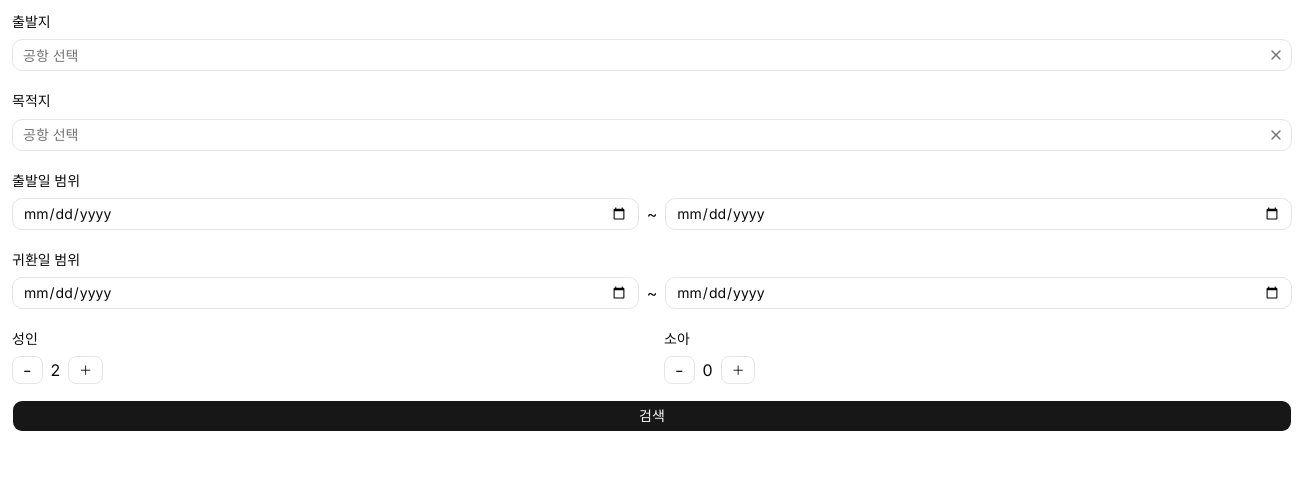
SearchForm — validation › shows date order error and disables submit when returnTo < departFrom
The width and height of the screenshot is (1304, 477).
Type "2026-06-20" into the date field named "출발일 시작".
click(325, 214); type("2026-06-20")  # box top-left (12, 198), bottom-right (639, 230)
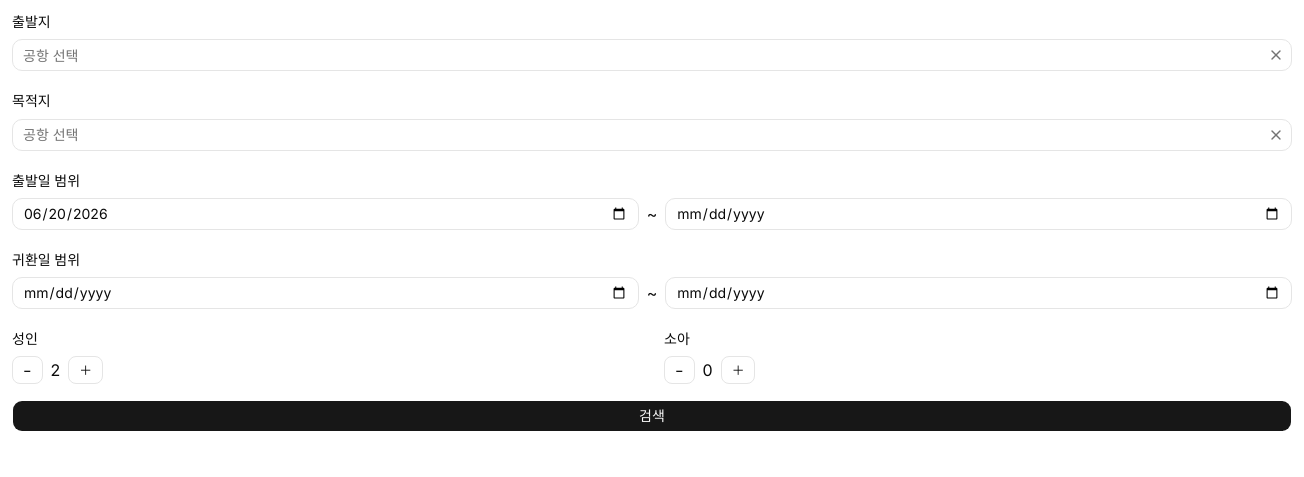
Type "2026-06-15" into the date field named "귀환일 종료".
click(979, 293); type("2026-06-15")  # box top-left (665, 277), bottom-right (1292, 309)
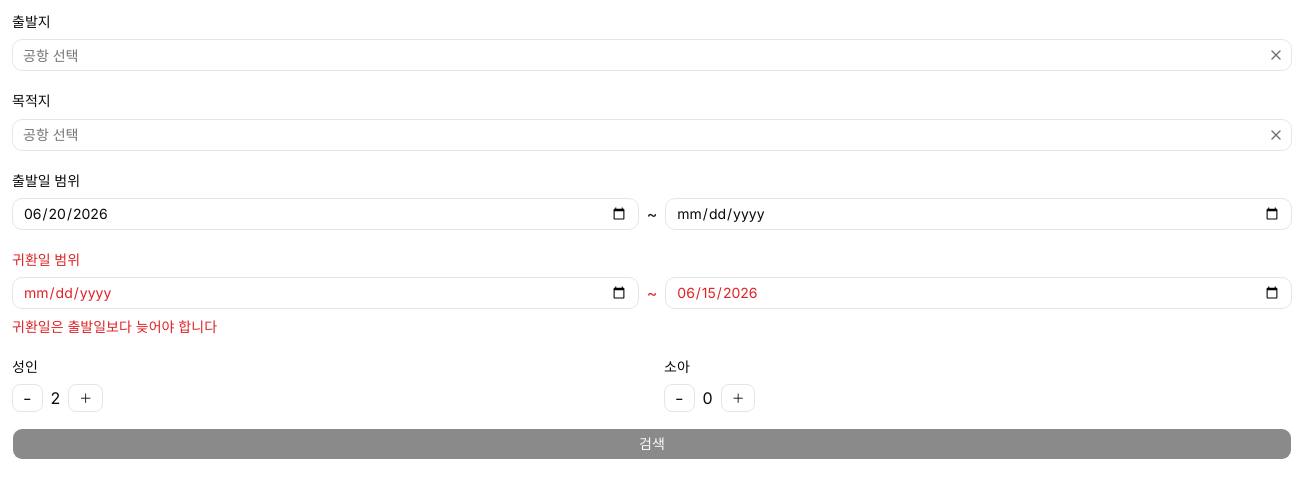
Now the text "귀환일은 출발일보다 늦어야 합니다" is shown, box top-left (12, 318), bottom-right (217, 335)
Now the button "검색" is disabled, box top-left (12, 428), bottom-right (1292, 460)
